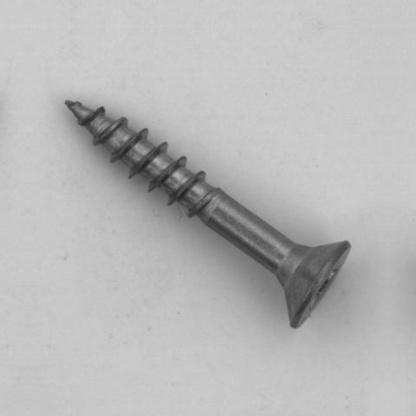metal: (63, 98, 351, 328)
